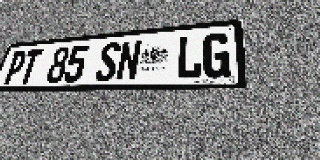5: (62, 45, 90, 83)
8: (45, 46, 72, 83)
G: (202, 32, 230, 79)
L: (175, 34, 203, 79)
N: (115, 40, 142, 81)
P: (2, 50, 28, 85)
S: (94, 42, 122, 82)
T: (17, 49, 43, 84)
